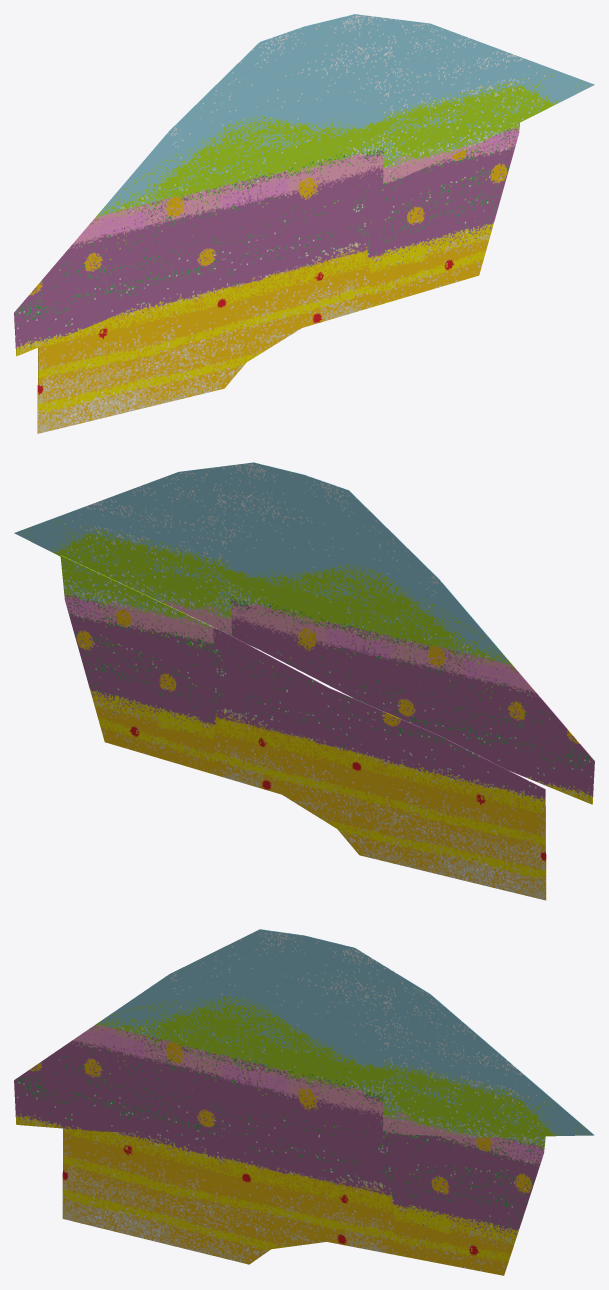
Rendered from village.fbx_village_house_7.fbx.
3 renders of one model, top to bottom at view 1: azimuth 30°, elevation 25°; view 2: azimuth 150°, elevation 25°; view 3: azimuth 330°, elevation 25°, orthographic.
Visible parts, largest first — view 1: roof.008, house.008; view 2: roof.008, house.008; view 3: roof.008, house.008.
Boxes of the visible parts, left/top/right/bottom form: roof.008: left=14, top=14, right=594, bottom=356; house.008: left=37, top=123, right=519, bottom=433; roof.008: left=14, top=462, right=594, bottom=804; house.008: left=60, top=555, right=546, bottom=900; roof.008: left=14, top=929, right=594, bottom=1137; house.008: left=62, top=1128, right=545, bottom=1275.
Size of the model in its own units: 1005 by 586 by 38.49.
